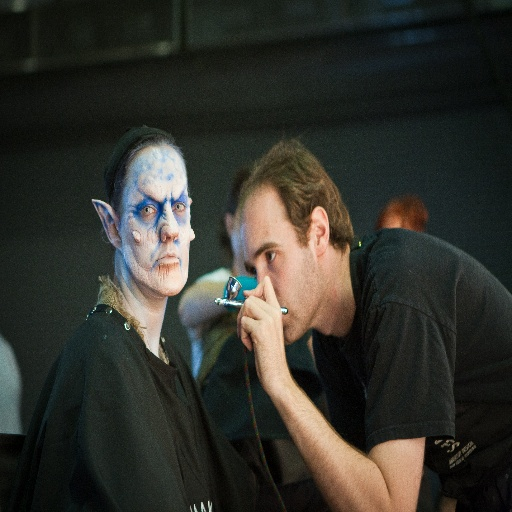hand: (234, 275, 290, 388)
